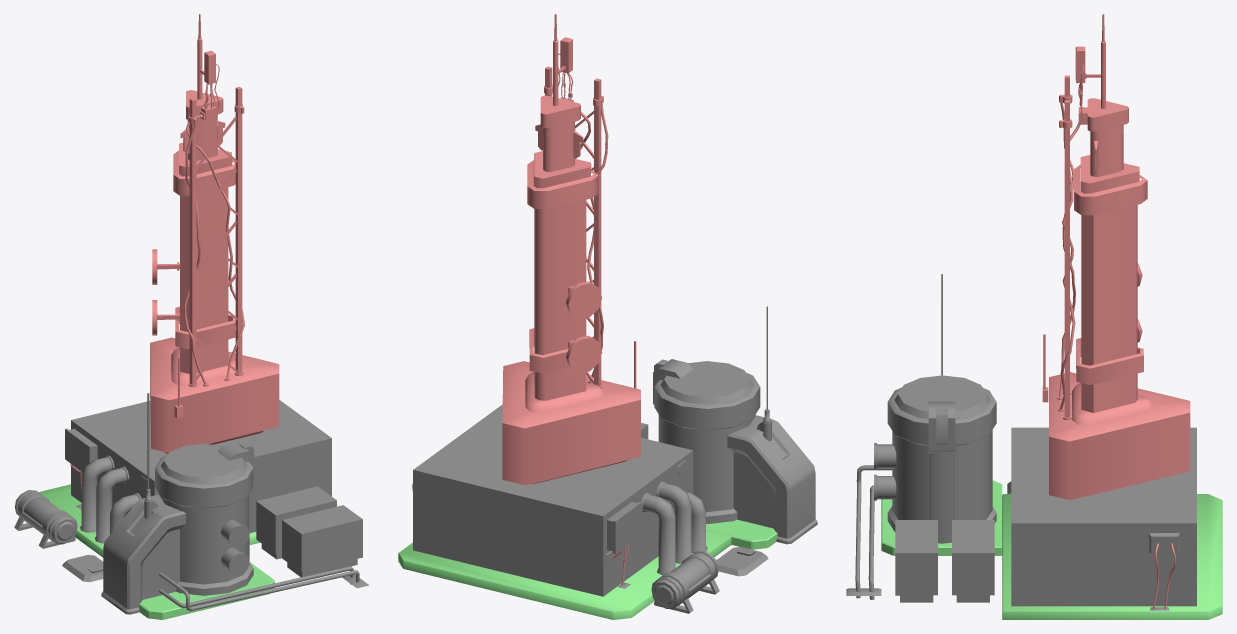
File: S_Envi_QYDX_LightSimulator_01a.gltf
3 renders of one model, left to right at view 1: azimuth 30°, elevation 25°; view 2: azimuth 150°, elevation 25°; view 3: azimuth 270°, elevation 25°, orthographic. The views are drawn at different scales.
Visible parts, largest first — view 1: S_Envi_QYDX_LightSimulator_01a; view 2: S_Envi_QYDX_LightSimulator_01a; view 3: S_Envi_QYDX_LightSimulator_01a.
Part boxes in pixels (x1,y1,x2,y2): S_Envi_QYDX_LightSimulator_01a: [14, 14, 369, 619]; S_Envi_QYDX_LightSimulator_01a: [398, 14, 817, 619]; S_Envi_QYDX_LightSimulator_01a: [846, 14, 1222, 619].
Bounding box in the file's own units: 4.07 × 7.51 × 4.59.
